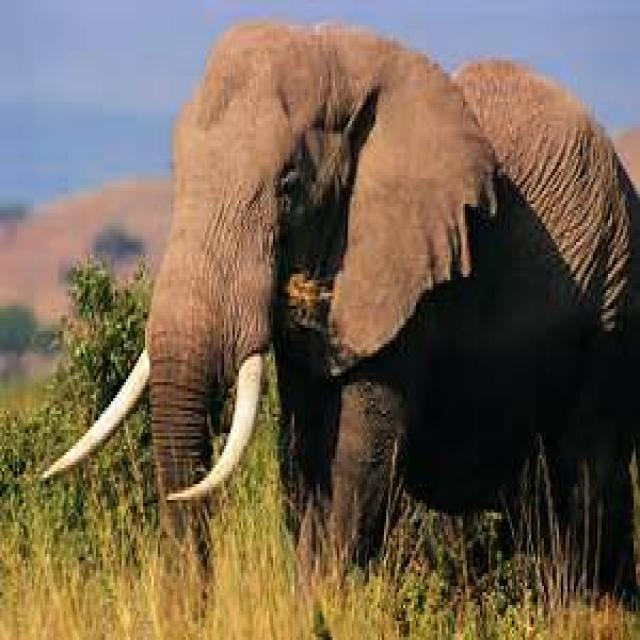elephant: (43, 19, 640, 599)
